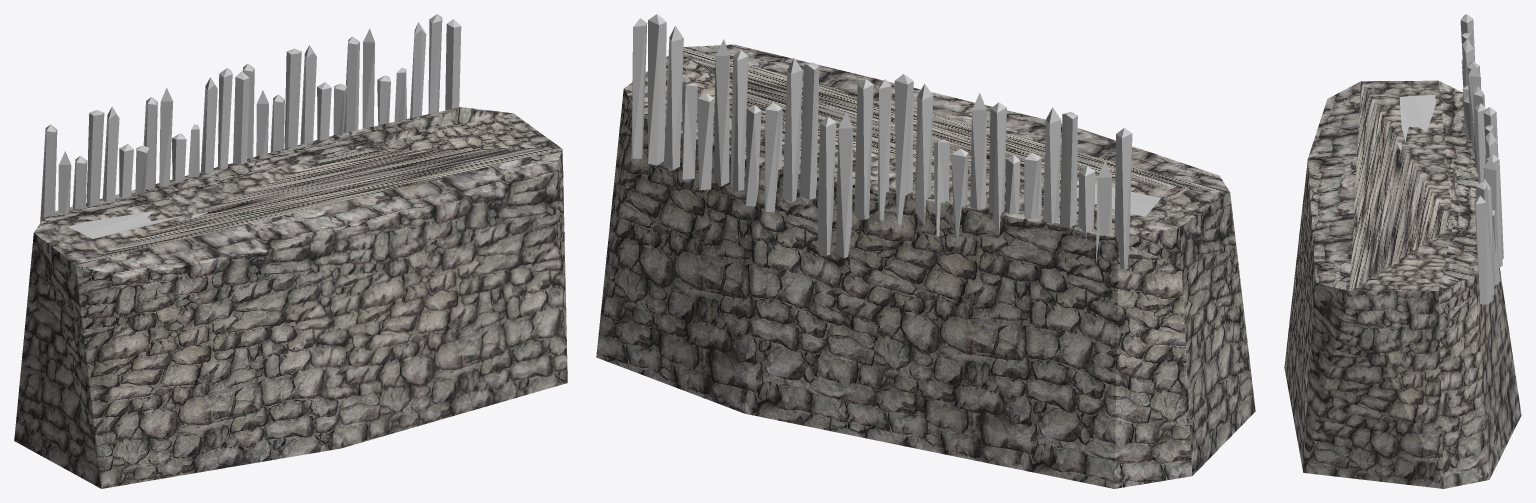
The model's file is StoneWall_1_LOD3.fbx.
3 renders of one model, left to right at view 1: azimuth 30°, elevation 25°; view 2: azimuth 150°, elevation 25°; view 3: azimuth 270°, elevation 25°, orthographic. The views are drawn at different scales.
Parts seen in each view (by area): view 1: Stone, Wood; view 2: Stone, Wood; view 3: Stone, Wood.
Part boxes in pixels (x1,y1,x2,y2): Stone: (14, 107, 567, 488); Wood: (40, 14, 461, 238); Stone: (596, 44, 1255, 488); Wood: (631, 14, 1160, 268); Stone: (1284, 80, 1521, 488); Wood: (1397, 14, 1503, 304).
Size of the model in its own units: 1417 by 628 by 808.
